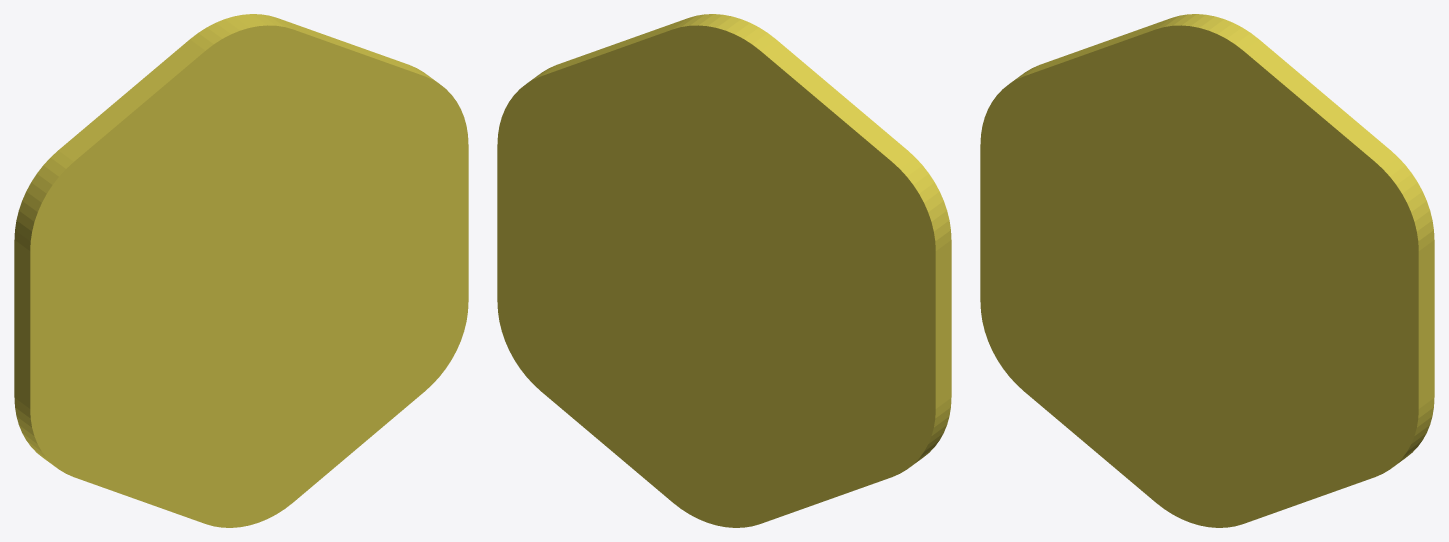
The model's file is Badge_3d.glb.
3 renders of one model, left to right at view 1: azimuth 30°, elevation 25°; view 2: azimuth 150°, elevation 25°; view 3: azimuth 330°, elevation 25°, orthographic.
Parts seen in each view (by area): view 1: Mesh_Mesh_head_geo.001_lambert2SG.001; view 2: Mesh_Mesh_head_geo.001_lambert2SG.001; view 3: Mesh_Mesh_head_geo.001_lambert2SG.001.
Part boxes in pixels (x1,y1,x2,y2): Mesh_Mesh_head_geo.001_lambert2SG.001: (14,14,468,527); Mesh_Mesh_head_geo.001_lambert2SG.001: (497,14,951,527); Mesh_Mesh_head_geo.001_lambert2SG.001: (980,14,1434,527).
Bounding box in the file's own units: 0.1613 × 0.175 × 0.01.
